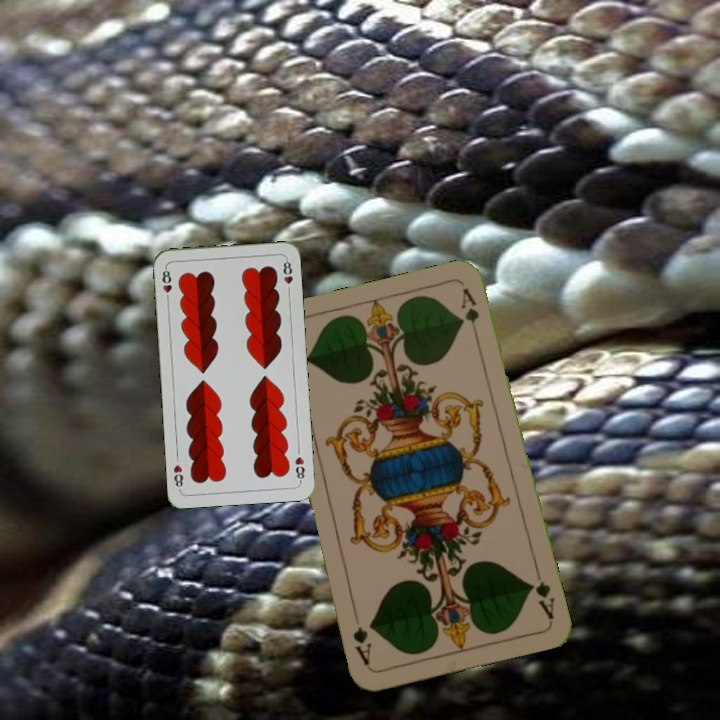GA: (526, 577, 558, 622)
H8: (158, 264, 174, 304), (291, 452, 307, 484)
